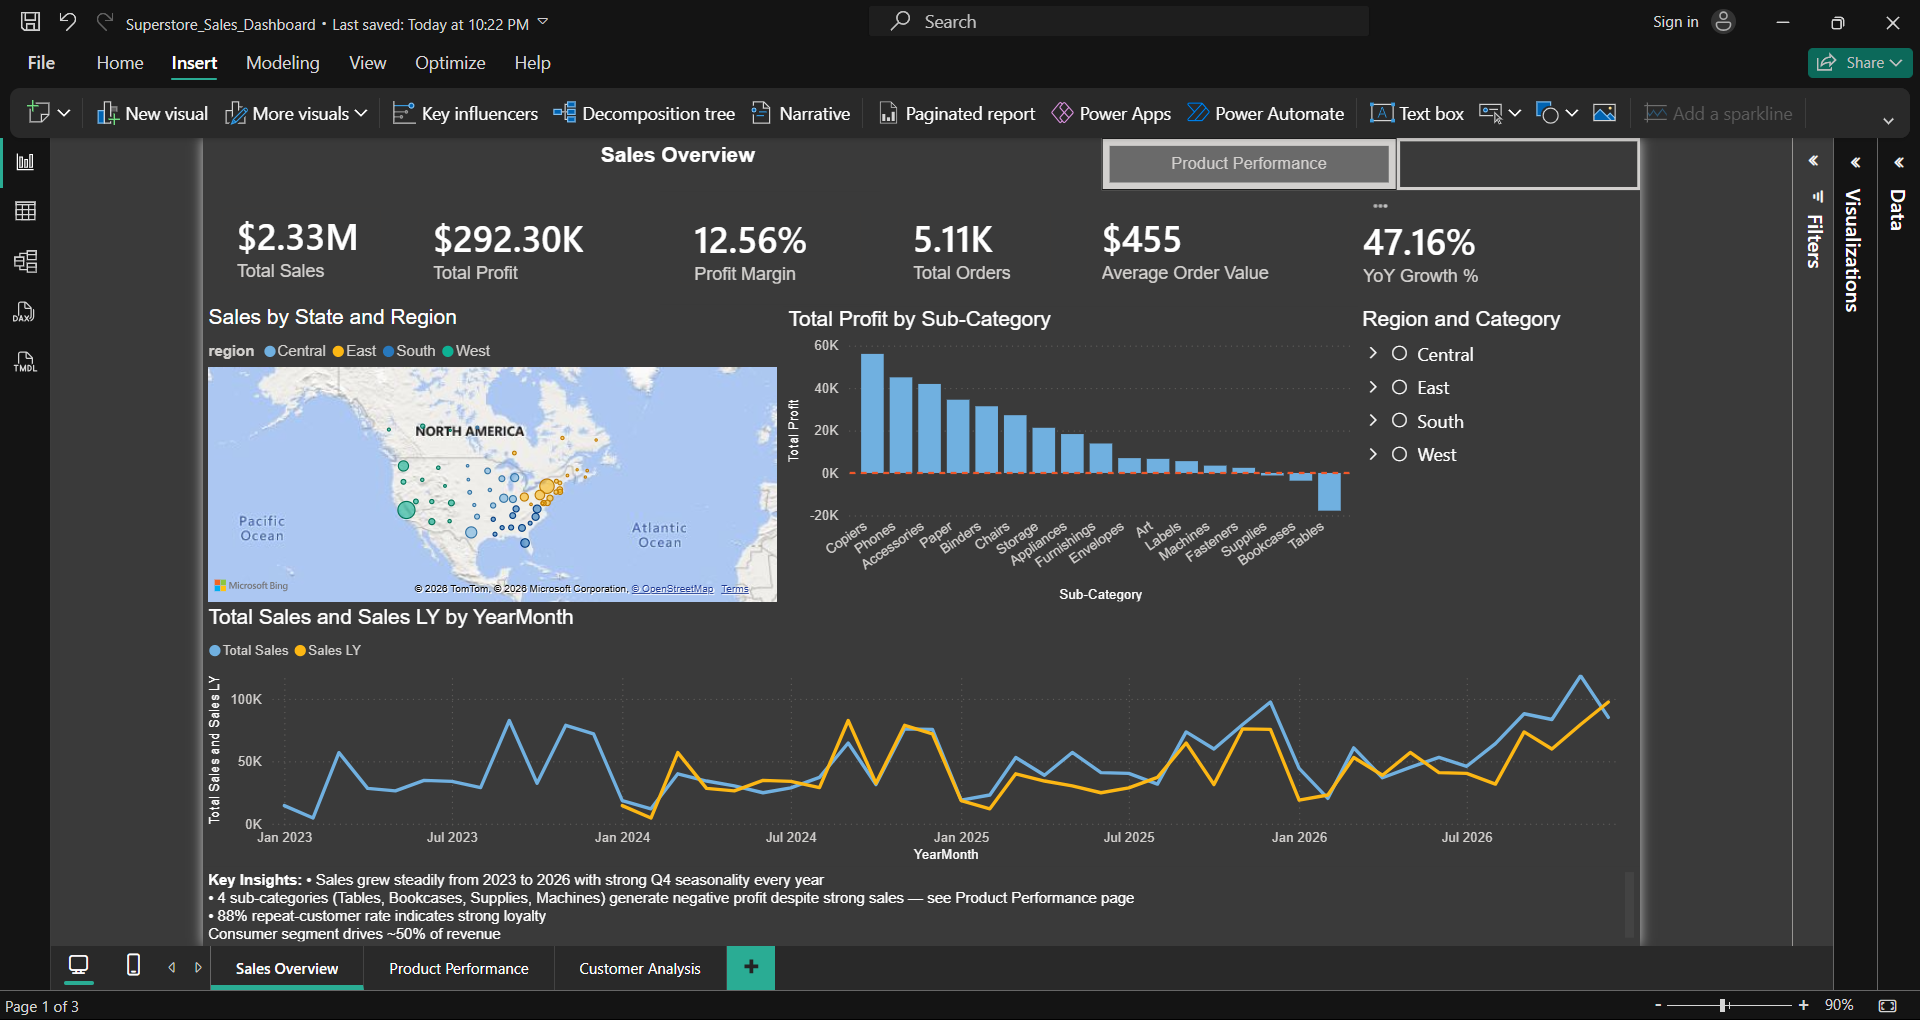

Layout of this report page (visuals, bound fields, positions):
{"tool":"powerbi","page":{"name":"Sales Overview","canvas":[1280,720],"ordinal":0},"visuals":[{"type":"textbox","box":[0,0,845.4,34.4],"z":0},{"type":"cardVisual","fields":{"Data":["Orders.Total Sales"]},"box":[0,45.4,176.3,100.6],"z":1000},{"type":"cardVisual","fields":{"Data":["Orders.Total Order"]},"box":[601.7,47.2,170.1,100.3],"z":3000},{"type":"cardVisual","fields":{"Data":["Orders.Total Profit"]},"box":[174.5,46.8,234.6,100.3],"z":4000},{"type":"cardVisual","fields":{"Data":["Orders.Profit Margin"]},"box":[407.3,48.2,196.1,100.3],"z":5000},{"type":"cardVisual","fields":{"Data":["Orders.Avg_Order_Value"]},"box":[770.1,47.2,235.9,101.6],"z":6000},{"type":"lineChart","fields":{"Y":["Orders.Total Sales","Date Table.Sales LY"],"Category":["Date Table.YearMonth"]},"box":[0,416,1279.8,233.1],"z":7000},{"type":"listSlicer","title":"Region and Category","fields":{"Values":["Orders.region","Orders.category"]},"box":[1027.4,150.2,252.4,266.8],"z":8000},{"type":"map","title":"Sales by State and Region","fields":{"Category":["Orders.state"],"Size":["Sum(Orders.sales)"],"Series":["Orders.region"]},"box":[0,149.7,516,268.7],"z":9000},{"type":"cardVisual","fields":{"Data":["Date Table.YoY Growth %"]},"box":[1003.5,49.7,276,100.6],"z":10000},{"type":"clusteredColumnChart","title":"Total Profit by Sub-Category","fields":{"Y":["Orders.Total Profit"],"Category":["Orders.sub_category"]},"box":[516,150.8,512.3,267.6],"z":11000},{"type":"textbox","box":[0,649.1,1279.8,71.2],"z":13000},{"type":"actionButton","title":"Sales Overview","box":[800,0,262.6,46.6],"z":13001},{"type":"actionButton","title":"Customer Analysis","box":[1062.6,0,217.2,46.6],"z":13002}]}

Visuals, with their boxes on the page's 1280x720 design canvas (x1, y1, x2, y2). These are canvas units, not pixel positions in the 1920x1020 screenshot, which may show the page scaled, cropped or inside an application window:
textbox: <region>0, 0, 845, 34</region>
cardVisual - Orders.Total Sales: <region>0, 45, 176, 146</region>
cardVisual - Orders.Total Order: <region>602, 47, 772, 148</region>
cardVisual - Orders.Total Profit: <region>174, 47, 409, 147</region>
cardVisual - Orders.Profit Margin: <region>407, 48, 603, 148</region>
cardVisual - Orders.Avg_Order_Value: <region>770, 47, 1006, 149</region>
lineChart - Orders.Total Sales x Date Table.Sales LY: <region>0, 416, 1280, 649</region>
"Region and Category" listSlicer: <region>1027, 150, 1280, 417</region>
"Sales by State and Region" map: <region>0, 150, 516, 418</region>
cardVisual - Date Table.YoY Growth %: <region>1004, 50, 1280, 150</region>
"Total Profit by Sub-Category" clusteredColumnChart: <region>516, 151, 1028, 418</region>
textbox: <region>0, 649, 1280, 720</region>
"Sales Overview" actionButton: <region>800, 0, 1063, 47</region>
"Customer Analysis" actionButton: <region>1063, 0, 1280, 47</region>
